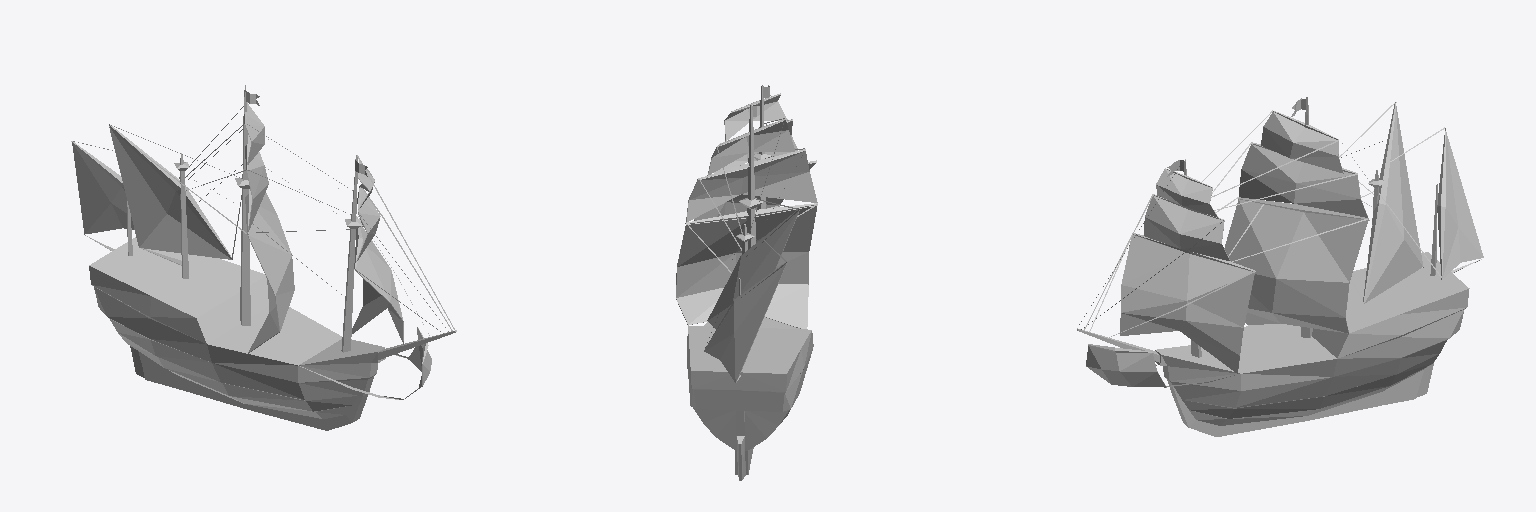
Rendered from ship.obj.
3 views of the same model, side by side, from view 1: azimuth 30°, elevation 25°; view 2: azimuth 150°, elevation 25°; view 3: azimuth 270°, elevation 25° (orthographic).
Visible parts, largest first — view 1: ship; view 2: ship; view 3: ship.
Boxes of the visible parts, box(x1,y1,x2,y2) form: ship: box(71, 85, 456, 430); ship: box(676, 85, 817, 480); ship: box(1077, 97, 1483, 436).
Size of the model in its own units: 5.07 by 7.64 by 8.8.